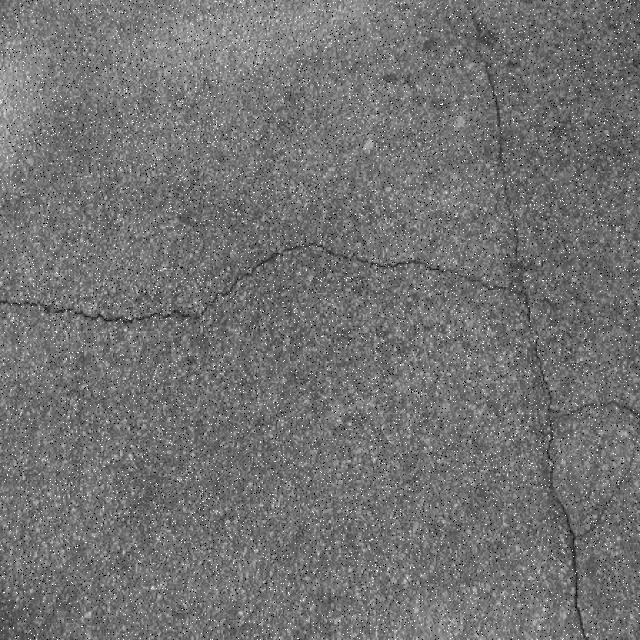Crack: (0, 12, 640, 639)
